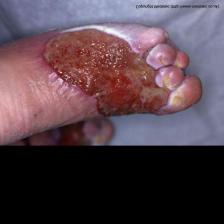Wound: (41, 33, 177, 118)
